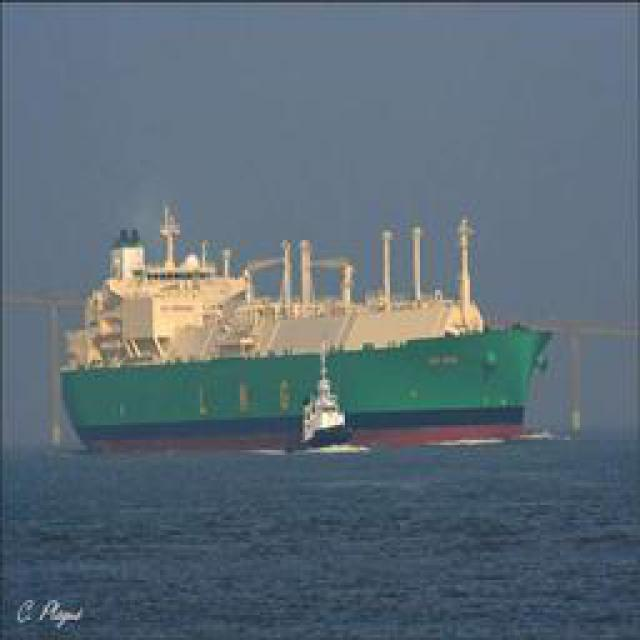Ship: (54, 317, 554, 447)
